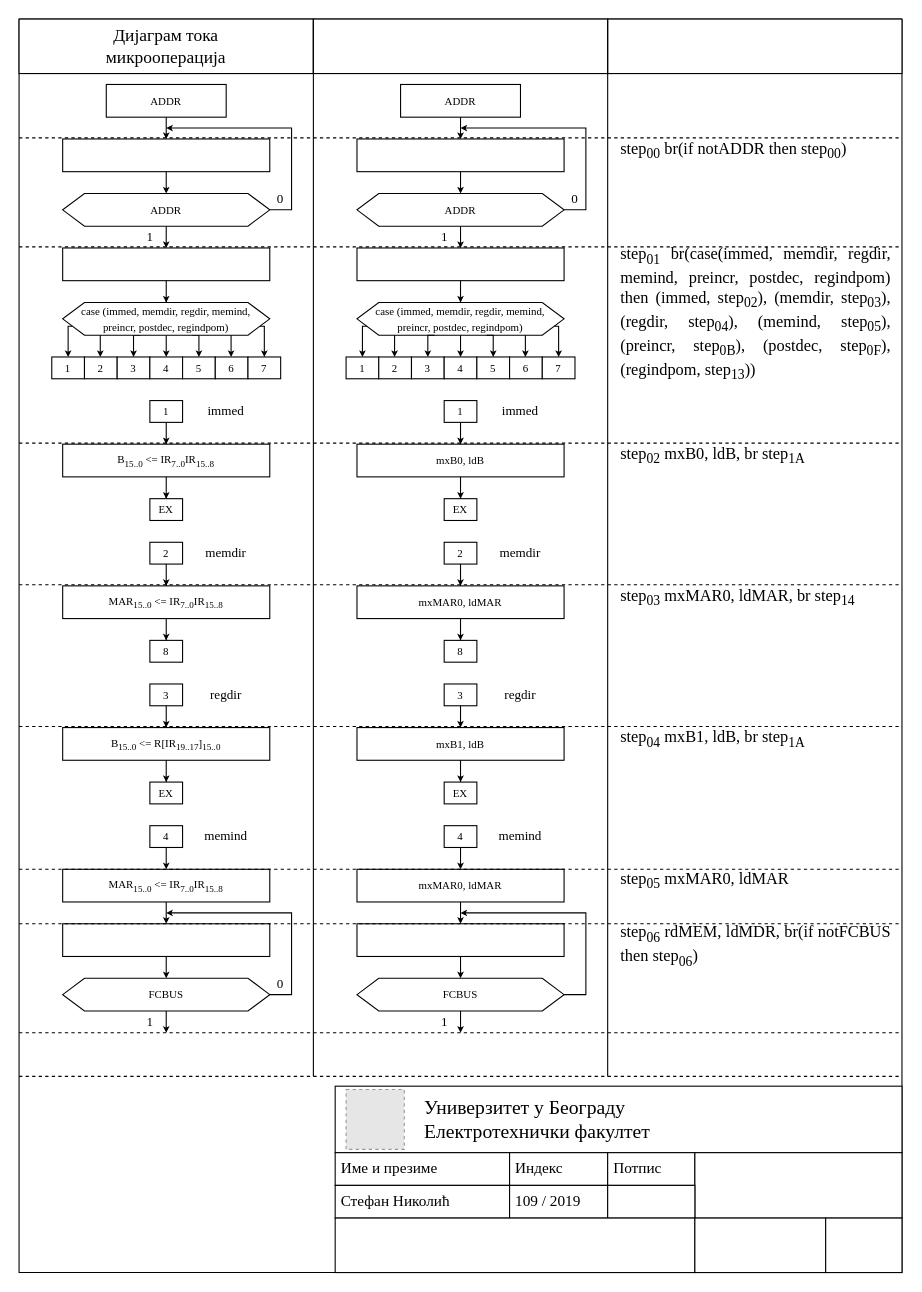
Some shapes in this 922 by 1292 pixel diagram are drawn without their labels. Grey dashed boxes stand in for pictures. The centre of each missing label's shape, as x and y in pixels:
"MDR 7..0 <= MEM[MAR 15..0 ] 7..0" belongs at (166,939).
"rdMEM, ldMDR" belongs at (460,939).
"Датум 25.09.2021." belongs at (760,1245).
"Дијаграм тока управљачких сигнала" belongs at (460,46).
"Назив Основи рачунарске технике 2" belongs at (514,1245).
"Пројекат Задатак 209" belongs at (798,1185).
"Секвенца управљачких сигнала" belongs at (754,46).
"Страна 4" belongs at (863,1245).
